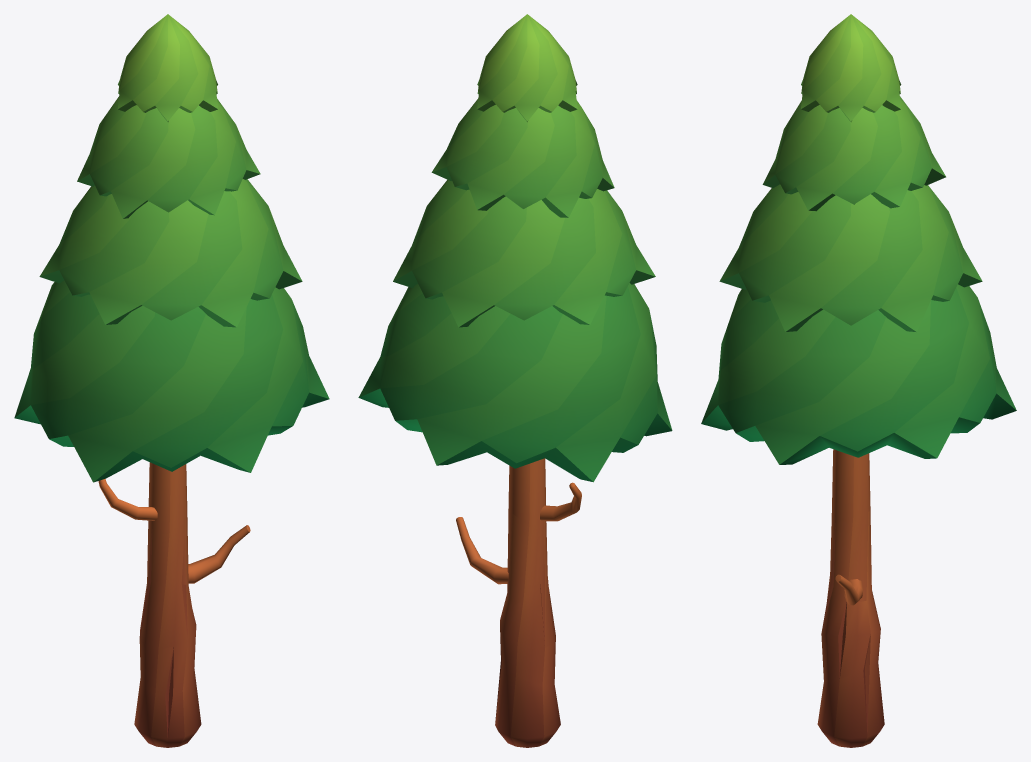
File: Tree_5_F_Color1.gltf
3 views of the same model, side by side, from view 1: azimuth 30°, elevation 25°; view 2: azimuth 150°, elevation 25°; view 3: azimuth 270°, elevation 25° (orthographic).
Parts seen in each view (by area): view 1: Tree_5_F_Color1; view 2: Tree_5_F_Color1; view 3: Tree_5_F_Color1.
Part boxes in pixels (x1,y1,x2,y2): Tree_5_F_Color1: (14, 14, 329, 747); Tree_5_F_Color1: (358, 14, 672, 747); Tree_5_F_Color1: (701, 14, 1016, 747).
Size of the model in its own units: 3.69 by 10.58 by 4.14.
Materials: 1 (1 with a texture image).
